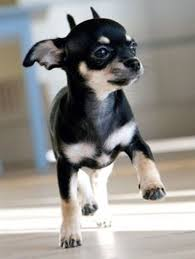chihuahua: (11, 6, 174, 244)
